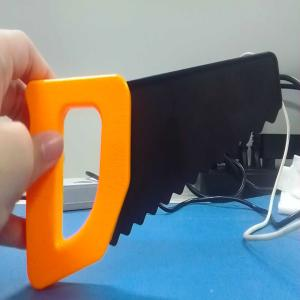serrote: (25, 50, 283, 290)
